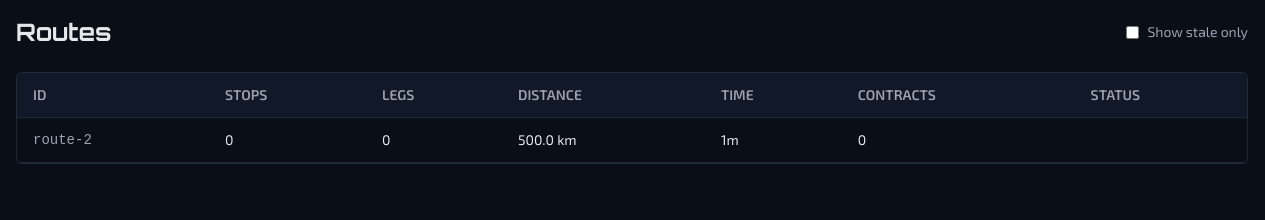
Test: RouteListPage › stale filter shows empty state when no stale routes
The image size is (1265, 220).
Expected: the heading "Routes" is shown, [16,16,111,48]
Click the checkbox labelled "Show stale only": (1133, 32) [1126,26,1139,38]
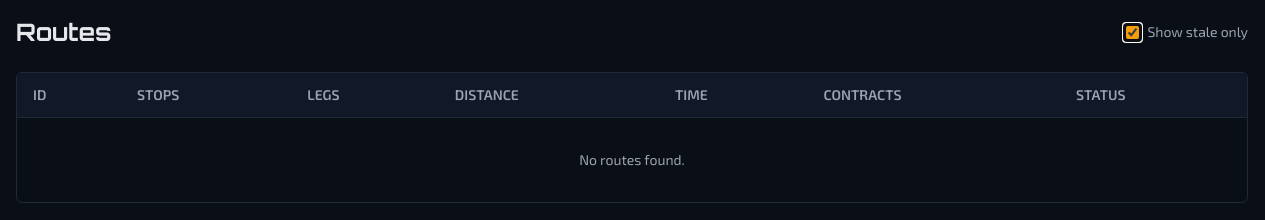
Result: the text "No routes found." is shown at [17,118,1247,202]
